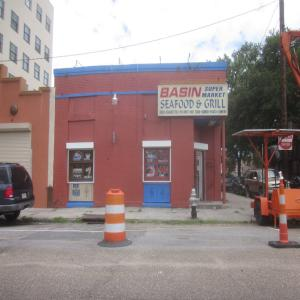Vehicle-registration-plate: (21, 192, 28, 201)
